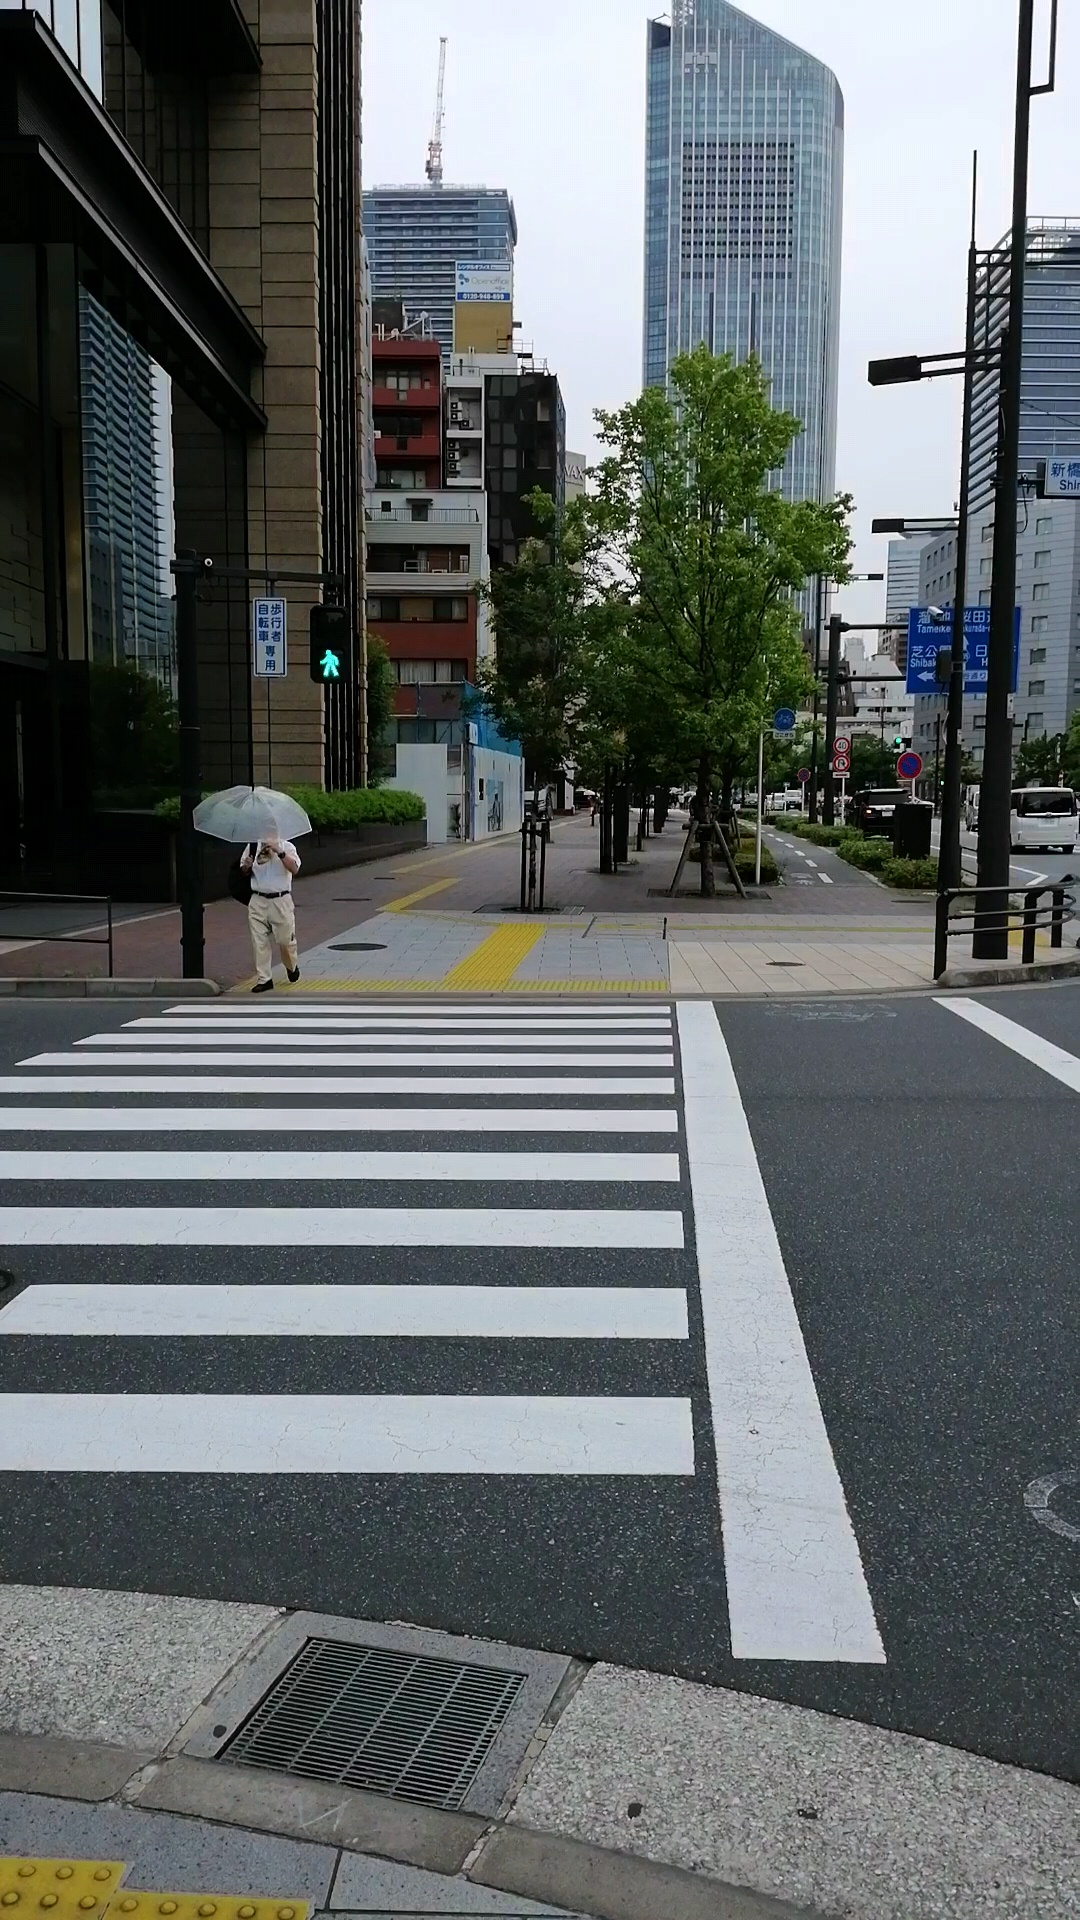green: (309, 603, 351, 684)
